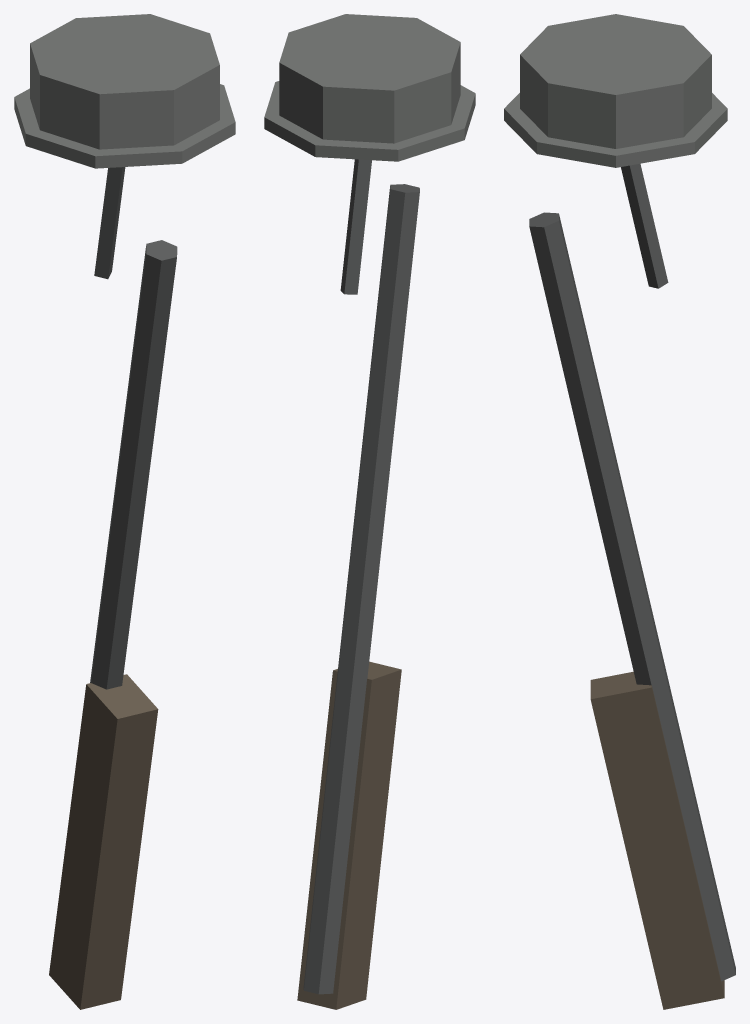
Rendered from rifle_marker.glb.
3 views of the same model, side by side, from view 1: azimuth 30°, elevation 25°; view 2: azimuth 150°, elevation 25°; view 3: azimuth 270°, elevation 25° (orthographic). The views are drawn at different scales.
Parts seen in each view (by area): view 1: rifle_marker; view 2: rifle_marker; view 3: rifle_marker.
Part boxes in pixels (x1,y1,x2,y2): rifle_marker: [14, 14, 235, 1009]; rifle_marker: [264, 14, 475, 1009]; rifle_marker: [504, 14, 735, 1009].
Size of the model in its own units: 0.268 by 1.25 by 0.2778.
